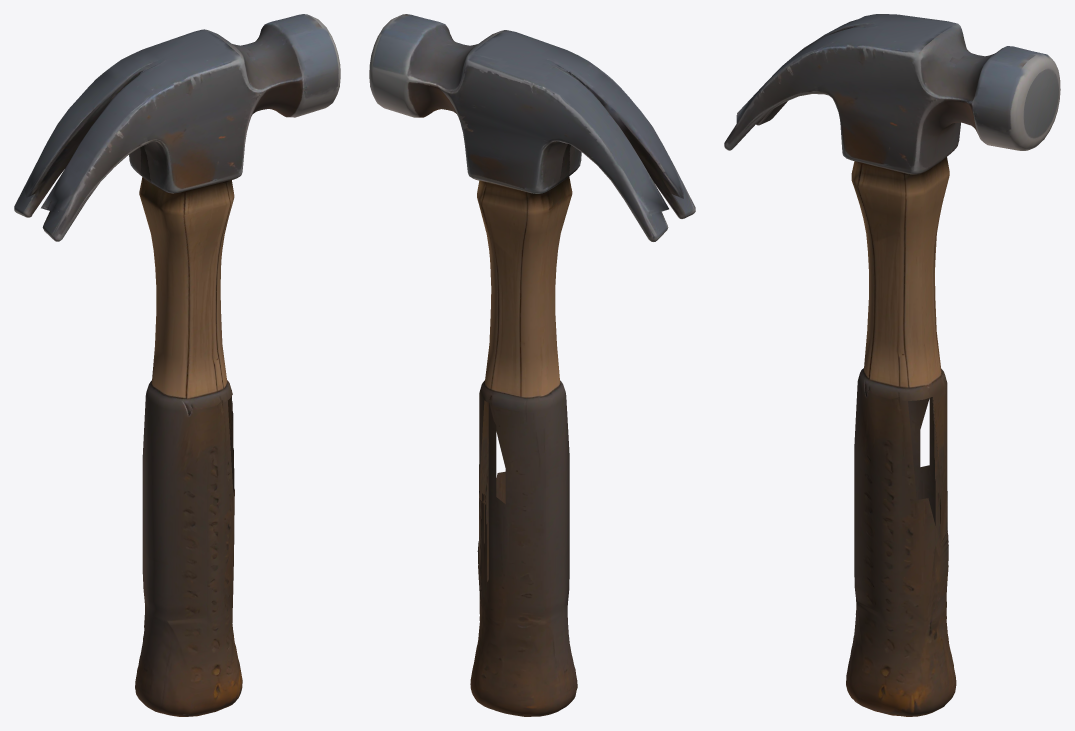
The model's file is primitive_hammer_03695747_v2.glb.
3 views of the same model, side by side, from view 1: azimuth 30°, elevation 25°; view 2: azimuth 150°, elevation 25°; view 3: azimuth 330°, elevation 25° (orthographic). The views are drawn at different scales.
Visible parts, largest first — view 1: mesh_input; view 2: mesh_input; view 3: mesh_input.
Part boxes in pixels (<box>): mesh_input: <box>14,14,340,716</box>; mesh_input: <box>369,14,695,716</box>; mesh_input: <box>724,14,1060,716</box>.
Size of the model in its own units: 0.8789 by 1.9 by 0.2559.
1 material, 1 textured.
